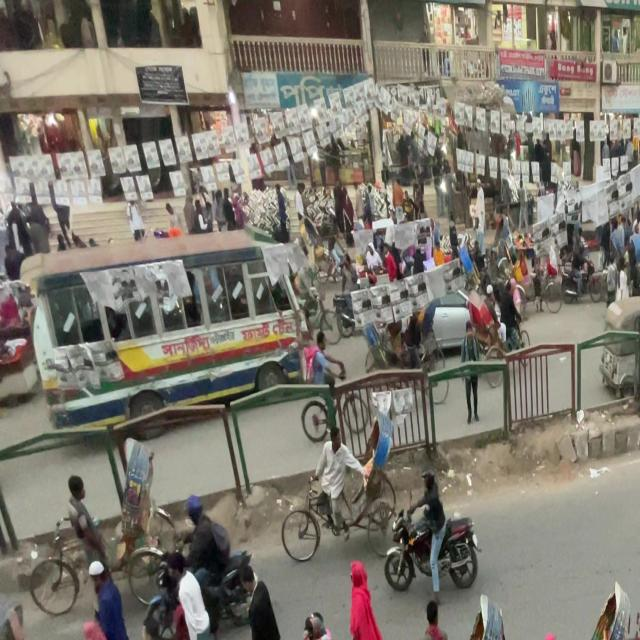bicycle: (280, 470, 396, 560), (20, 533, 97, 623)
bus: (23, 232, 310, 431)
motorbike: (385, 514, 478, 594)
